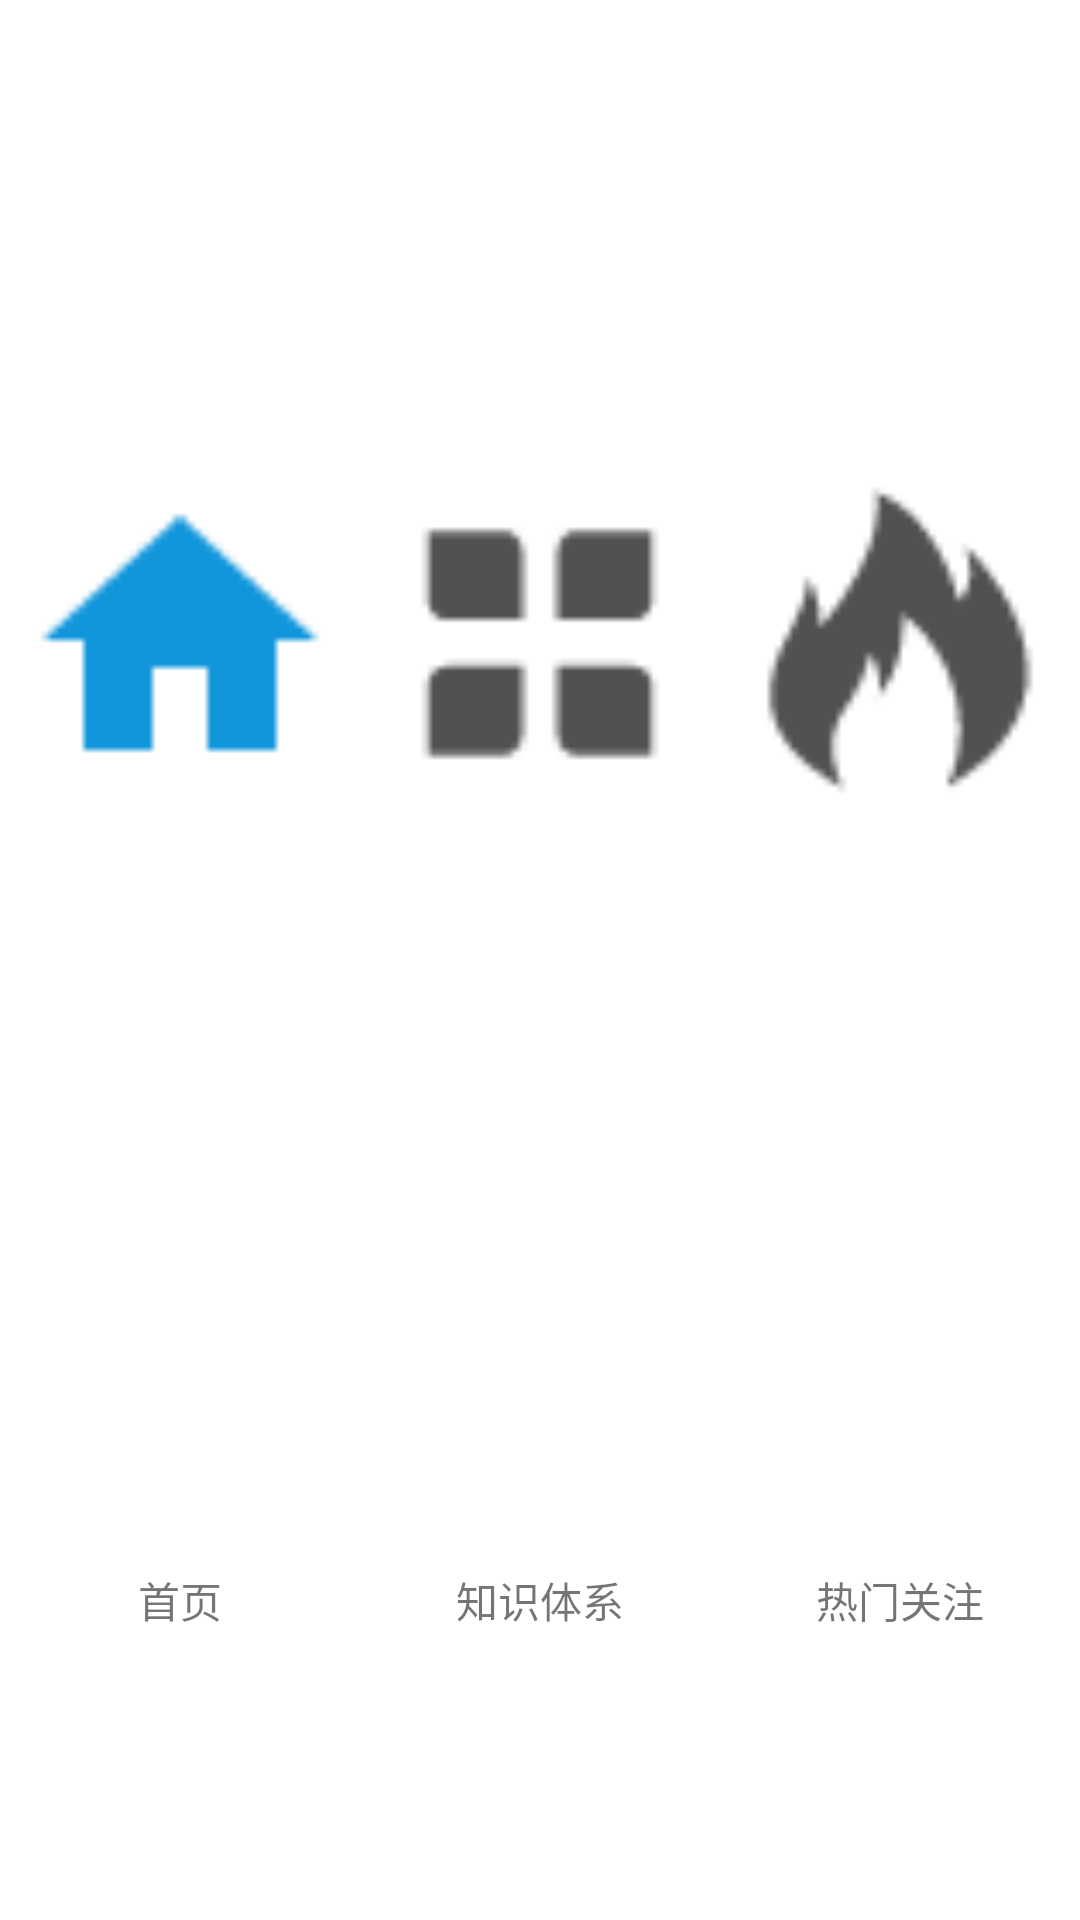

Where icons sit on this 1080px×1920px app screen, as BBox(x1, y1, x2, y2):
content un: BBox(423, 528, 657, 759)
fire hot un: BBox(767, 491, 1032, 790)
home: BBox(41, 514, 319, 753)
